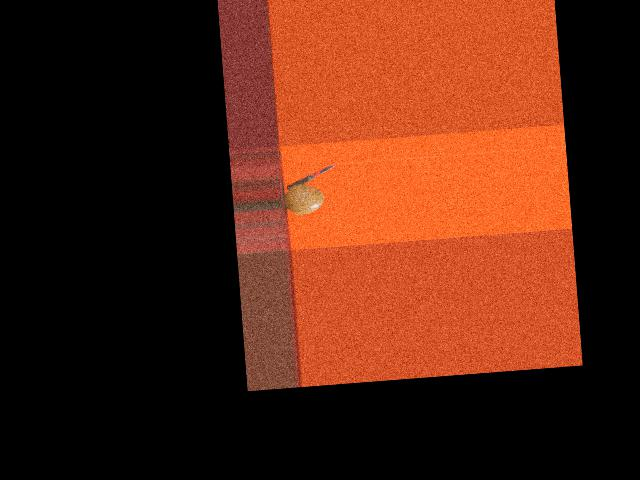egg: (283, 182, 324, 215)
